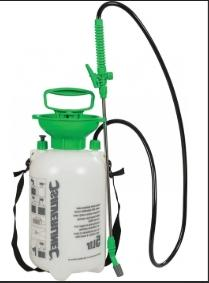PULVERISATEUR: (0, 0, 200, 283)
